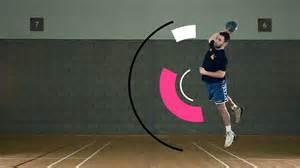ballon_handball: (225, 20, 239, 34)
